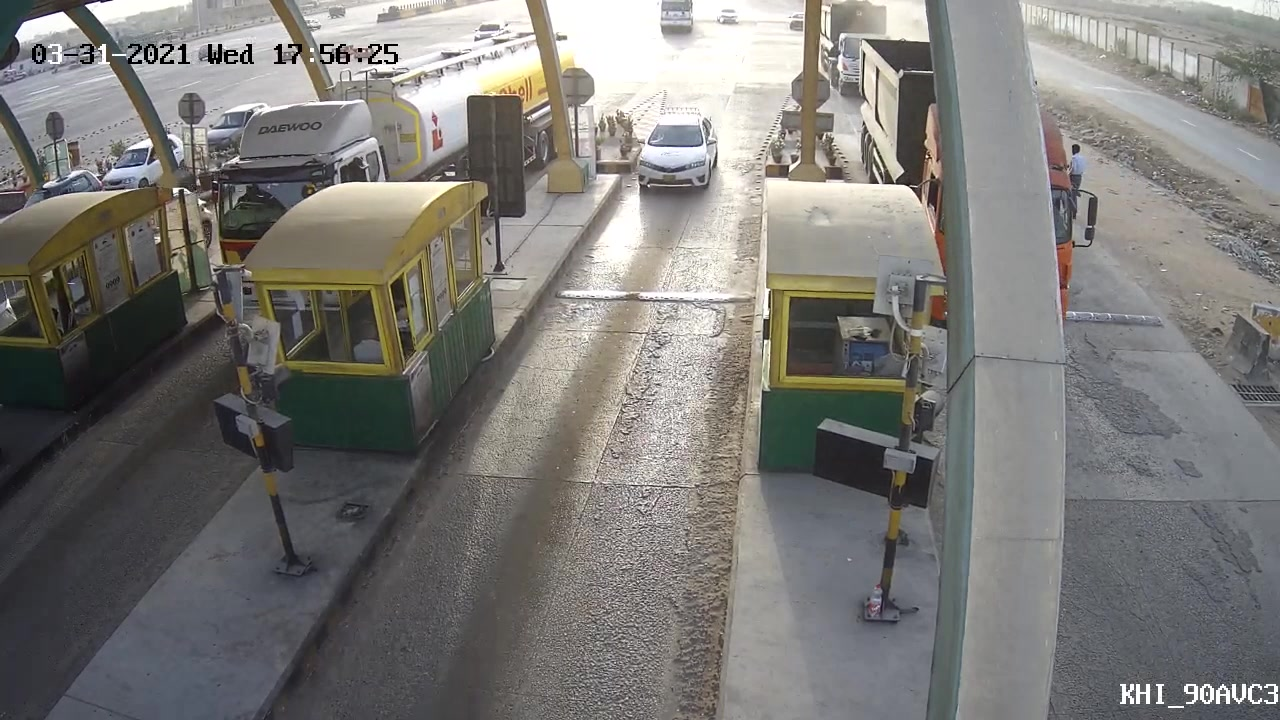F1: (620, 110, 721, 190)
